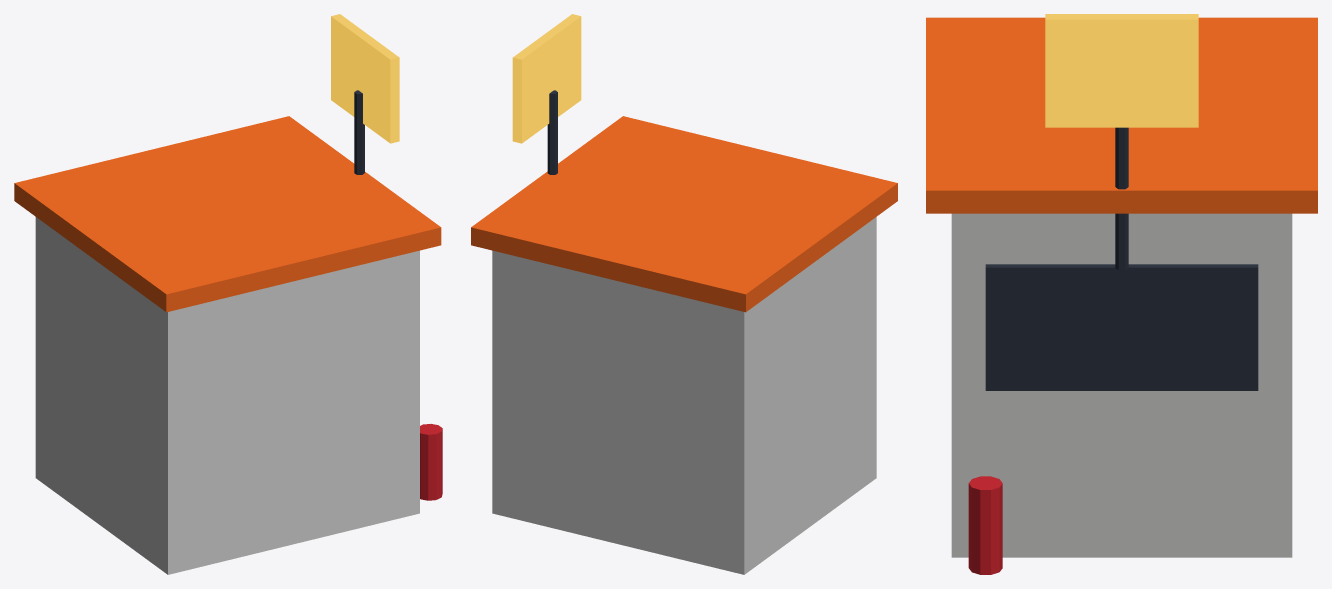
The model's file is marshal_hut.glb.
3 renders of one model, left to right at view 1: azimuth 30°, elevation 25°; view 2: azimuth 150°, elevation 25°; view 3: azimuth 270°, elevation 25°, orthographic. The views are drawn at different scales.
Visible parts, largest first — view 1: marshalhut; view 2: marshalhut; view 3: marshalhut.
Part boxes in pixels (x1=…): marshalhut: x1=14, y1=14, x2=442, y2=574; marshalhut: x1=471, y1=14, x2=897, y2=574; marshalhut: x1=926, y1=14, x2=1317, y2=574.
Bounding box in the file's own units: 2.6 × 3.55 × 2.3.
